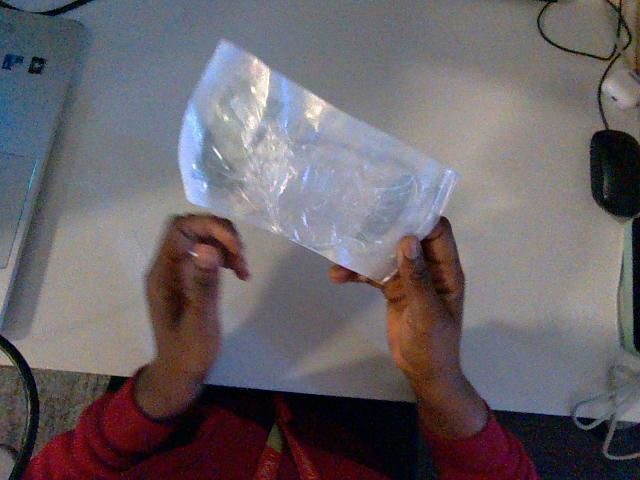gallipot: (179, 41, 456, 281)
